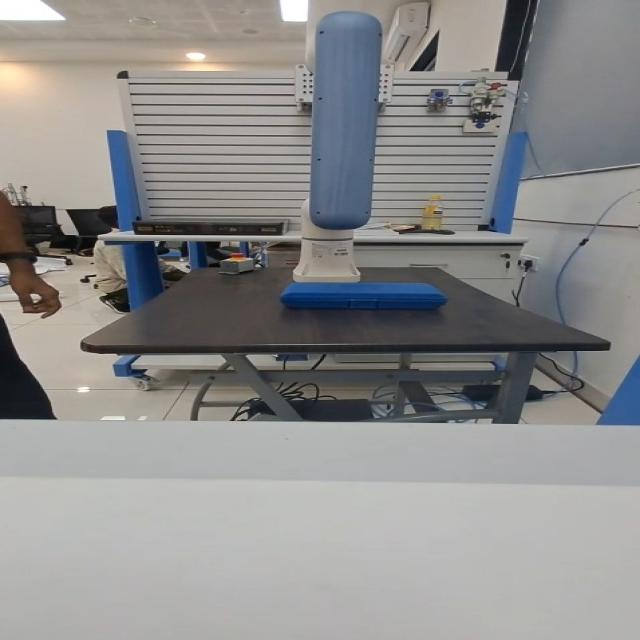top-surface: (302, 284, 427, 292)
